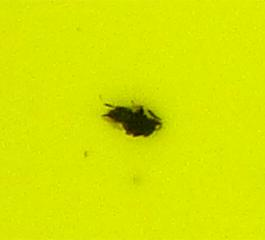Hymenoptera: (100, 100, 165, 140)
